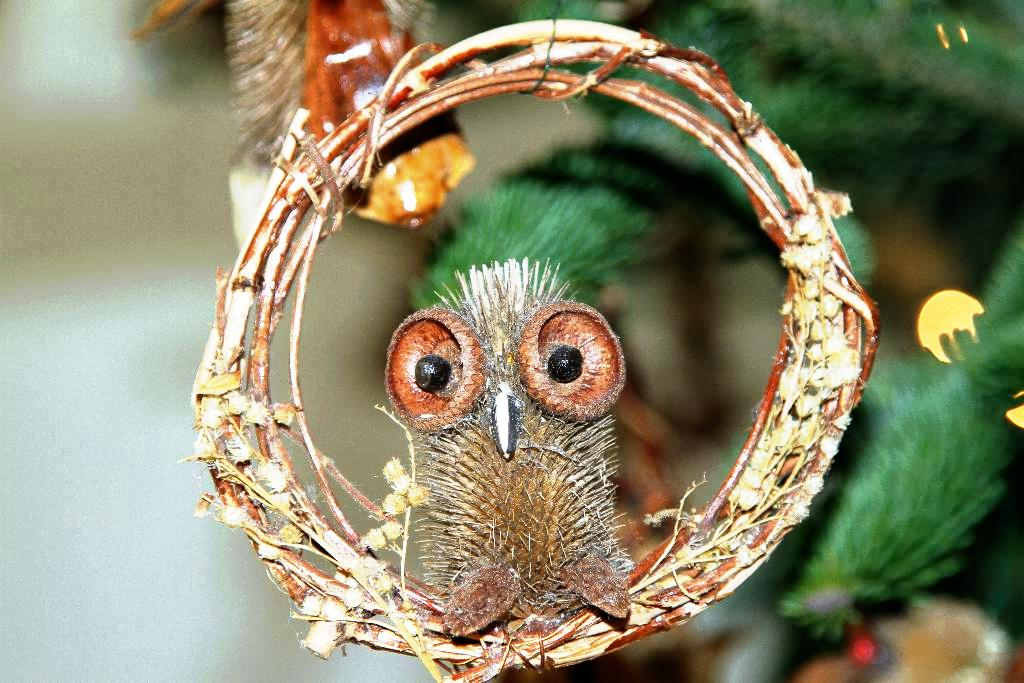Owl: (384, 254, 636, 644)
